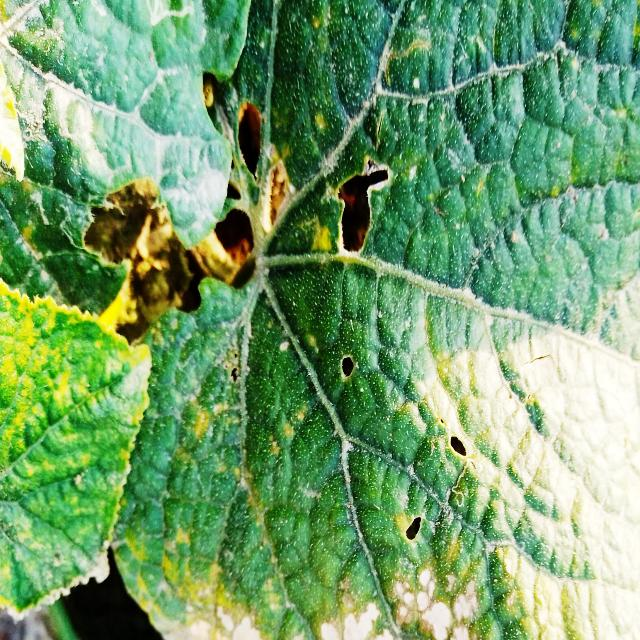Anthracnose: (234, 96, 294, 233), (330, 145, 397, 259), (434, 410, 473, 466), (325, 344, 366, 385), (397, 508, 429, 544)
